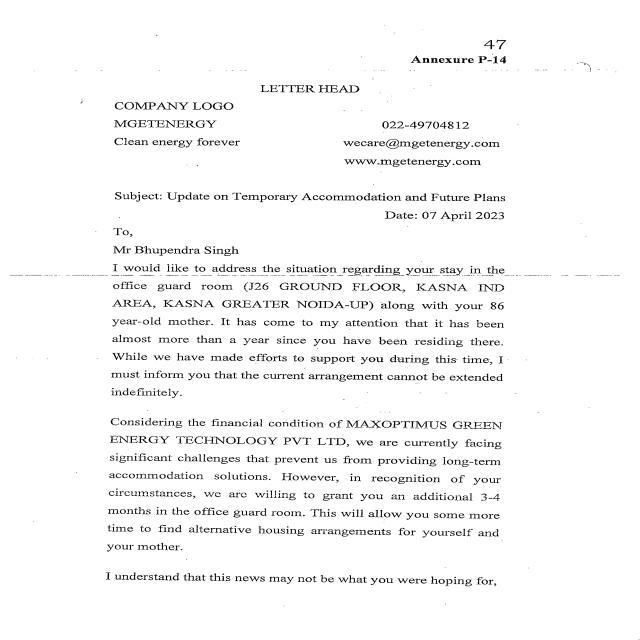page-number: (378, 0, 640, 54)
